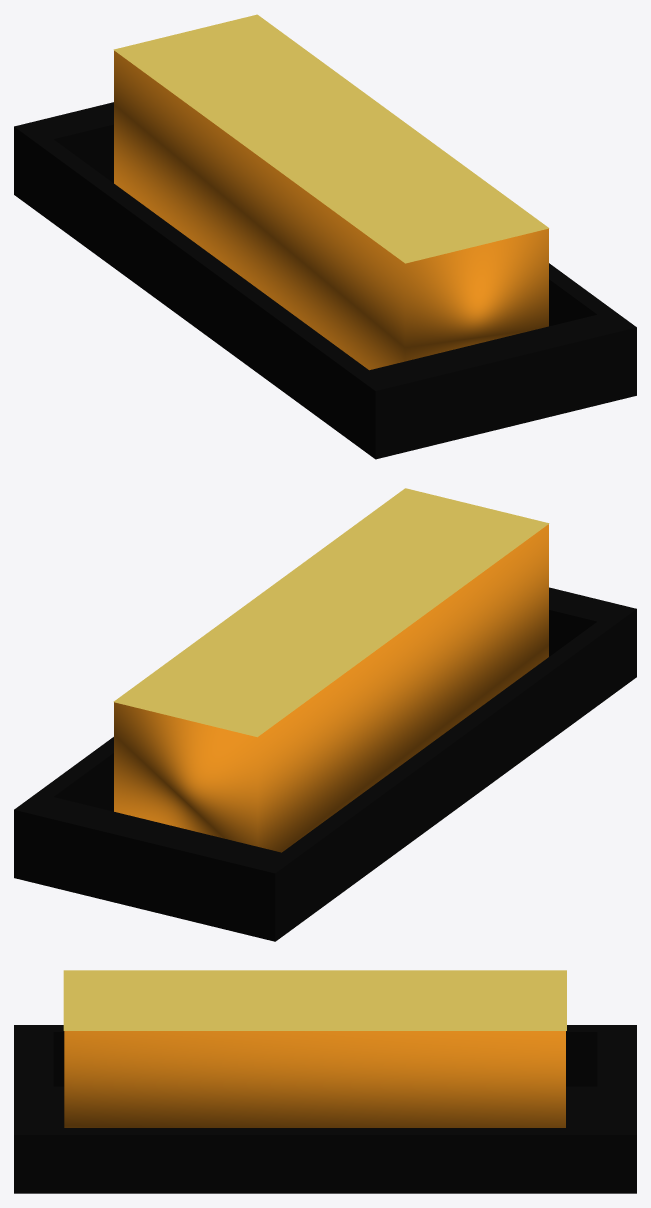
The model's file is kue delapan jam.fbx.
3 renders of one model, top to bottom at view 1: azimuth 30°, elevation 25°; view 2: azimuth 150°, elevation 25°; view 3: azimuth 270°, elevation 25°, orthographic. The views are drawn at different scales.
Parts seen in each view (by area): view 1: Cube, Cube.001, Plane; view 2: Cube, Cube.001, Plane; view 3: Cube, Cube.001, Plane.
Part boxes in pixels (left/top/right/bottom): Cube: left=14, top=102, right=636, bottom=459; Cube.001: left=114, top=50, right=548, bottom=370; Plane: left=113, top=14, right=549, bottom=263; Cube: left=14, top=587, right=636, bottom=941; Cube.001: left=114, top=524, right=548, bottom=852; Plane: left=113, top=488, right=549, bottom=737; Cube: left=14, top=1025, right=636, bottom=1193; Cube.001: left=64, top=1031, right=565, bottom=1127; Plane: left=63, top=970, right=566, bottom=1030.
Bounding box in the file's own units: 81.27 × 47.7 × 195.
